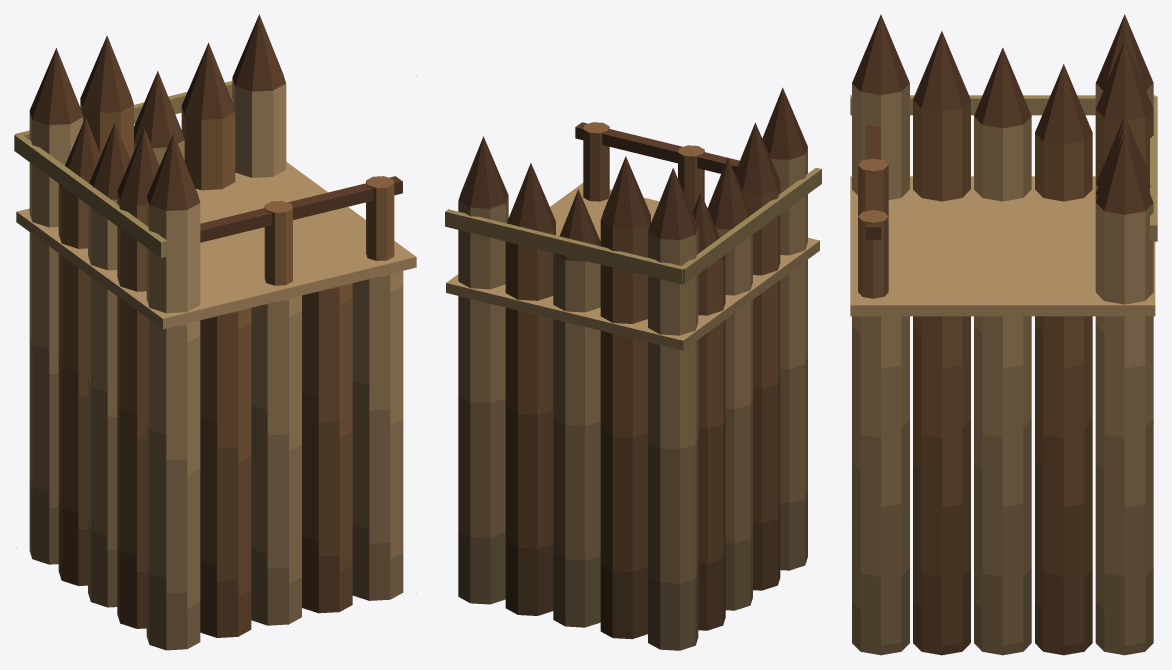
The model's file is perimeter_wall_wood_f2.glb.
3 renders of one model, left to right at view 1: azimuth 30°, elevation 25°; view 2: azimuth 150°, elevation 25°; view 3: azimuth 270°, elevation 25°, orthographic. The views are drawn at different scales.
Size of the model in its own units: 2.01 by 3.9 by 2.01.
Materials: 1 (1 with a texture image).
